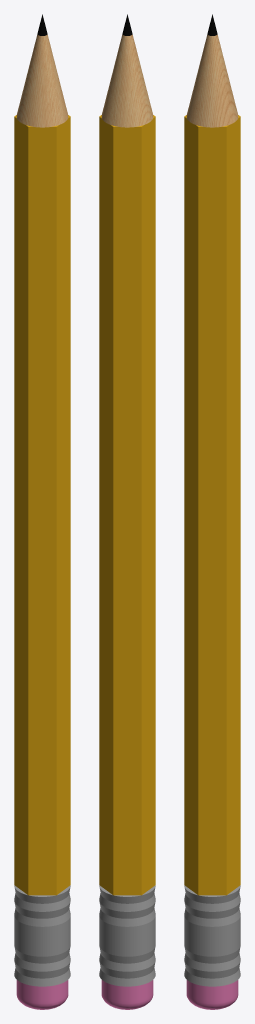
File: pencil.dae
3 views of the same model, side by side, from view 1: azimuth 30°, elevation 25°; view 2: azimuth 150°, elevation 25°; view 3: azimuth 330°, elevation 25° (orthographic).
Visible parts, largest first — view 1: Cylinder, Cylinder.001, Cone, Mball.001; view 2: Cylinder, Cylinder.001, Cone, Mball.001; view 3: Cylinder, Cylinder.001, Cone, Mball.001.
Boxes of the visible parts, x1,y1,x2,y2 form: Cylinder: (14, 115, 70, 895); Cylinder.001: (14, 885, 70, 986); Cone: (16, 34, 68, 127); Mball.001: (16, 980, 68, 1009); Cylinder: (99, 115, 155, 895); Cylinder.001: (99, 885, 155, 986); Cone: (101, 34, 153, 127); Mball.001: (101, 980, 153, 1009); Cylinder: (184, 115, 240, 895); Cylinder.001: (184, 885, 240, 986); Cone: (186, 34, 238, 127); Mball.001: (186, 980, 238, 1009).
Size of the model in its own units: 2 by 2 by 38.71.
5 materials, 1 textured.
